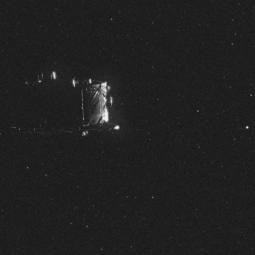lisa_pathfinder: (0, 61, 128, 147)
